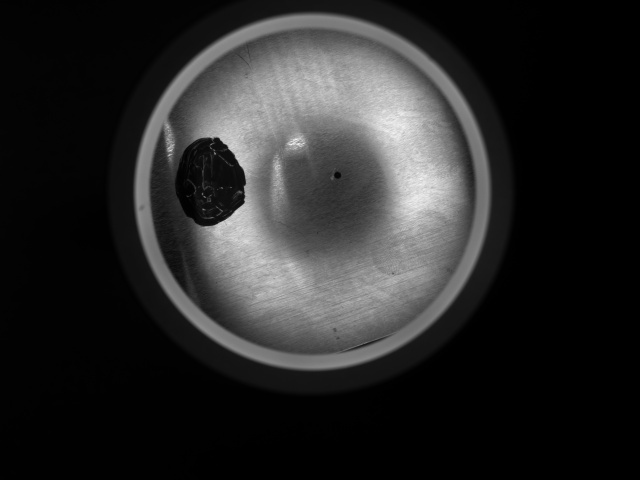zang_wu: (174, 136, 247, 227)
zhen_kong: (331, 167, 348, 184)
